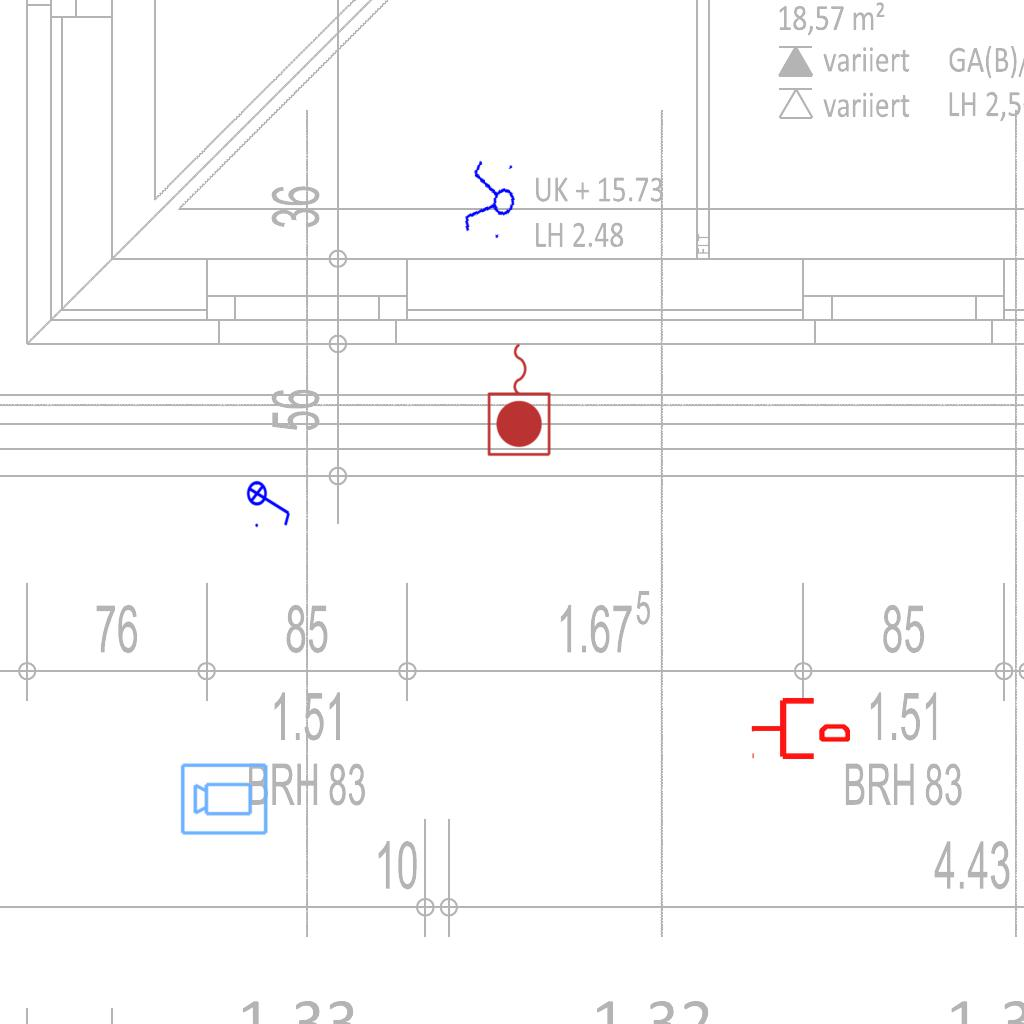Ausschalter_beleuchtet: (246, 474, 294, 530)
Datenanschluss_einfach: (750, 694, 850, 763)
KFO_Kamera_mit_Festobjektiv: (179, 760, 270, 837)
Serienschalter: (459, 154, 523, 246)
Zugtaster: (484, 338, 556, 460)
